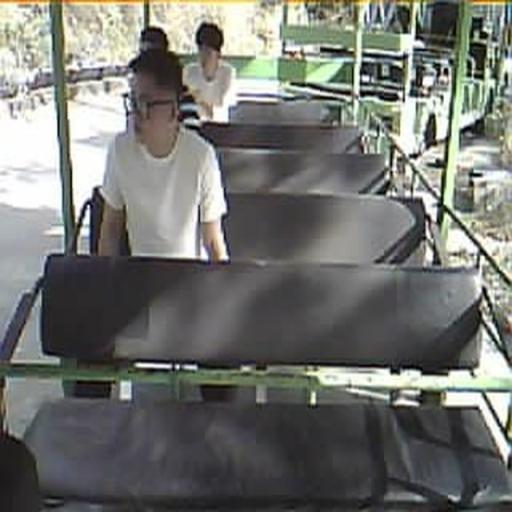persona: (72, 48, 238, 400), (126, 28, 202, 127), (180, 21, 239, 125)
